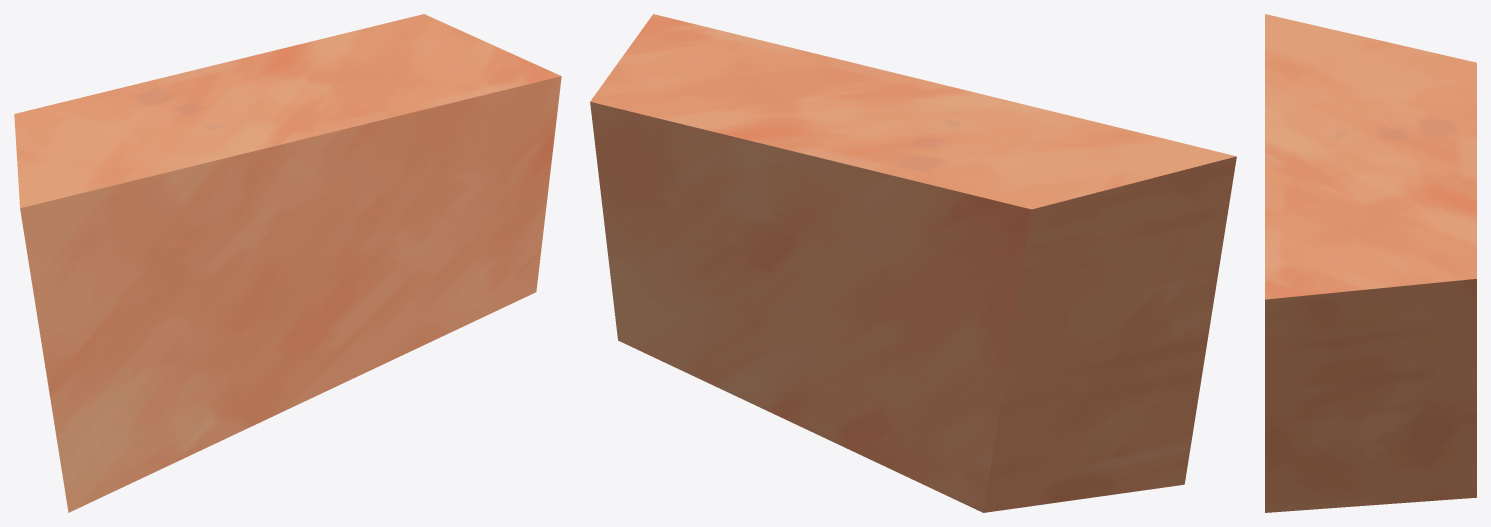
The model's file is wall_window_s00.fbx.
The picture shows the model from 3 angles, left to right: view 1: azimuth 30°, elevation 25°; view 2: azimuth 150°, elevation 25°; view 3: azimuth 270°, elevation 25°; orthographic projection. The views are drawn at different scales.
Visible parts, largest first — view 1: wall_window_s00; view 2: wall_window_s00; view 3: wall_window_s00.
Part boxes in pixels (x1,y1,x2,y2): wall_window_s00: (14,14,561,512); wall_window_s00: (590,14,1236,512); wall_window_s00: (1265,14,1476,512).
Bounding box in the file's own units: 3.19 × 1.78 × 1.
